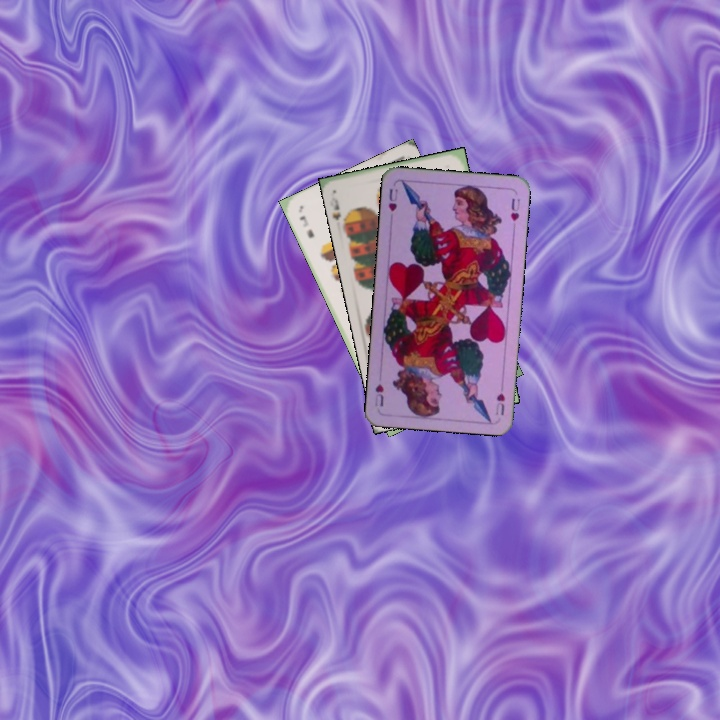E7: (295, 212, 317, 241)
HU: (492, 378, 507, 418), (384, 185, 400, 214)
S9: (327, 193, 352, 231)
